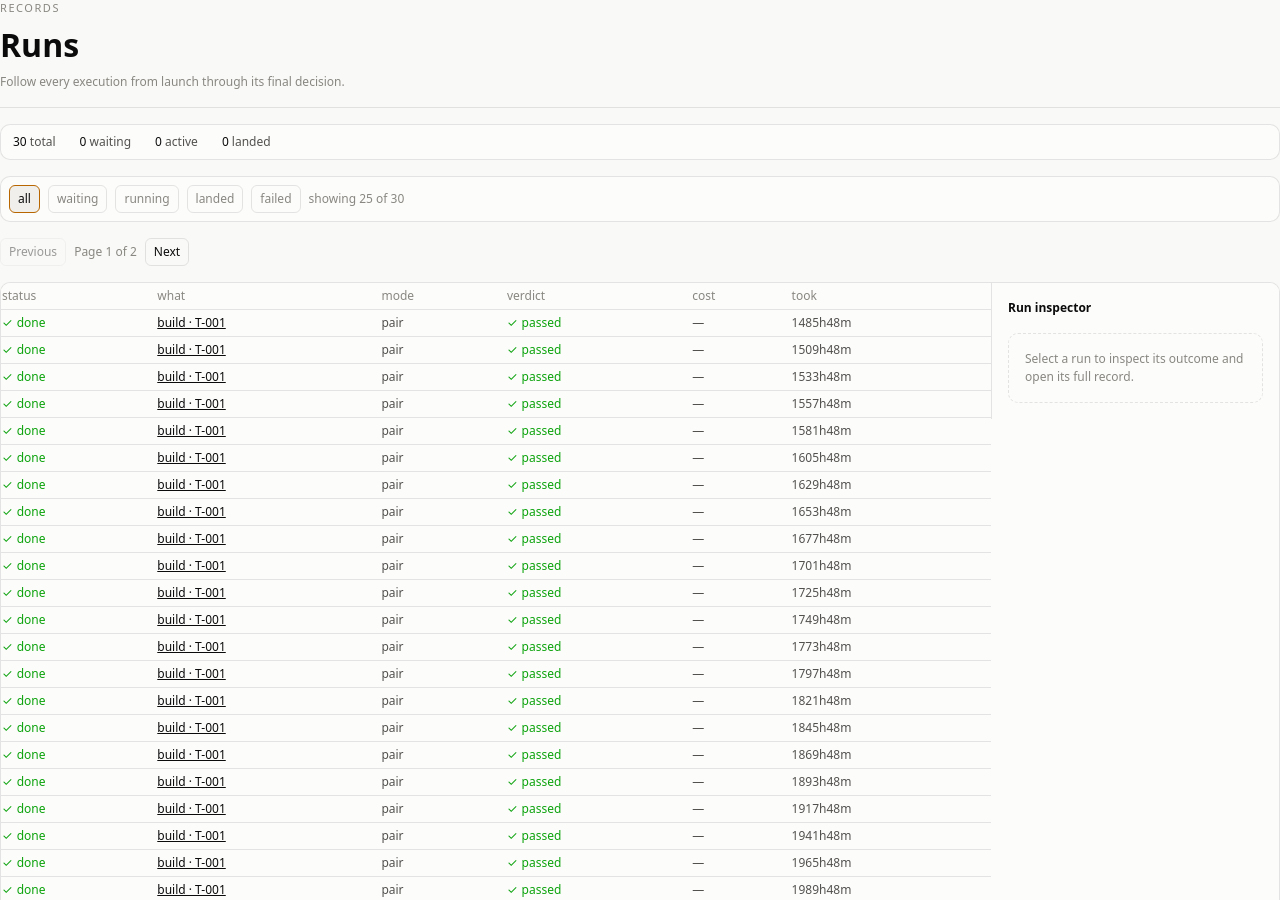
it: Runs › paginates at 25 rows and reports the filtered count
Expected: the text with test id "runs-count" reads "showing 25 of 30", [308,190,404,208]
Click the button with test id "runs-next" at (167, 252), box [145,238,189,266]
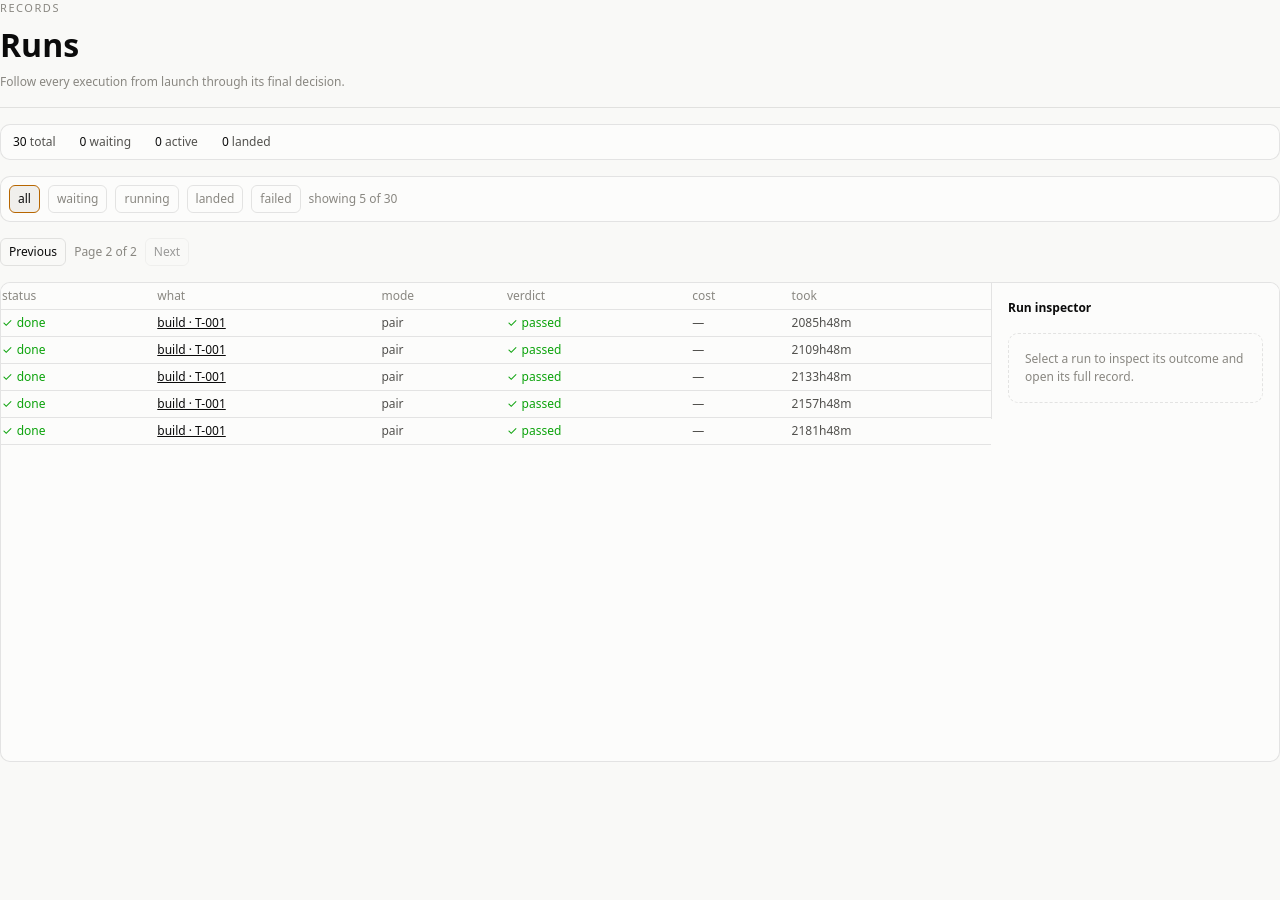
Expected: the number of rows with test id "runs-row" is 5, [1,309,991,336]; [1,336,991,363]; [1,363,991,390]; [1,390,991,417]; [1,417,991,444]
Expected: the text with test id "runs-count" reads "showing 5 of 30", [308,190,397,208]
